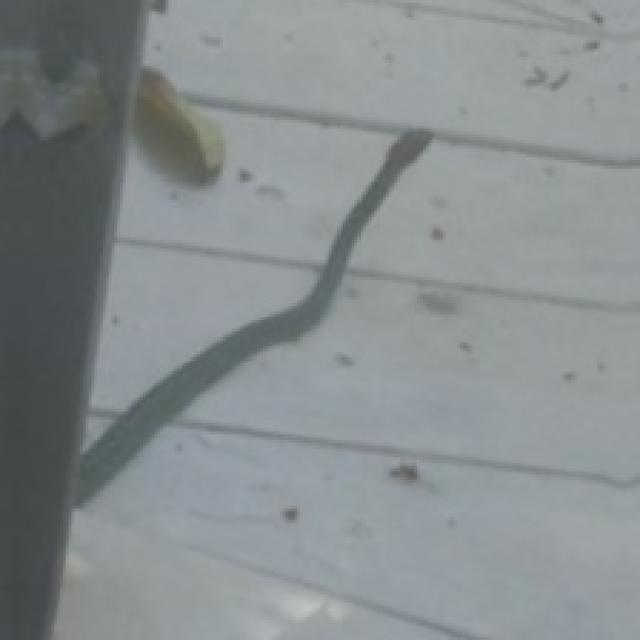paradise tree snake: (74, 129, 431, 503)
